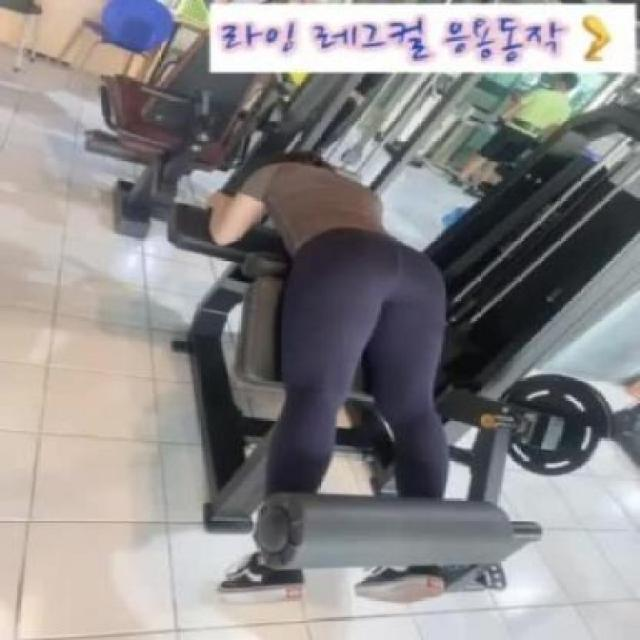reg curl machine: (161, 101, 640, 640)
